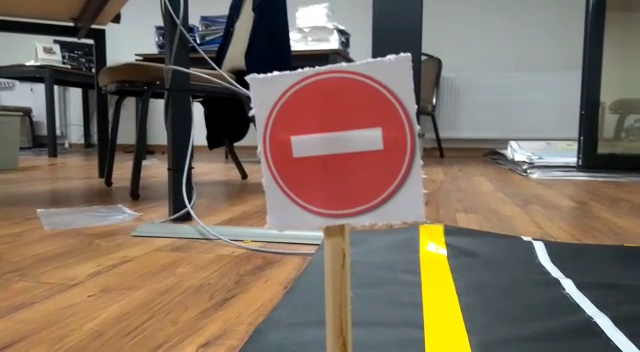girisi_olmayan_yol: (257, 65, 416, 231)
